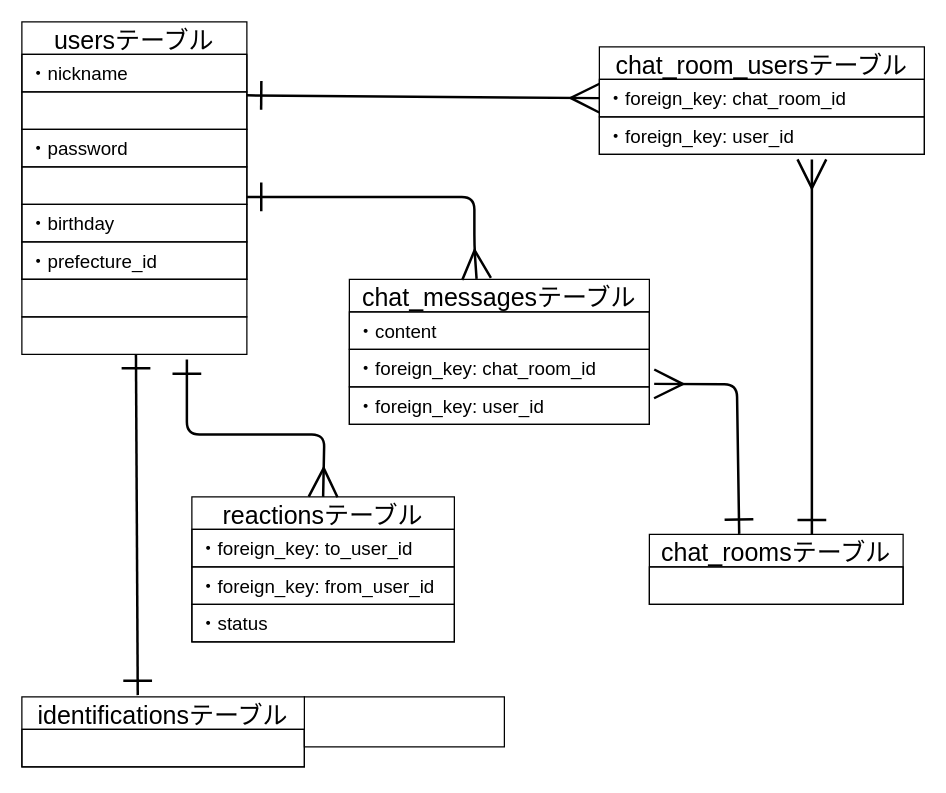
Some shapes in this 946 by 793 pixel diagram are drawn without their labels. Each missing label, with the centre of its shape:
"foreign_key:user_id" goes at (403,721).
"・certification" goes at (162,747).
"・email" goes at (134,110).
"・favorite_genre" goes at (134,297).
"・gender_id" goes at (134,185).
"・self-introduction" goes at (134,335).
